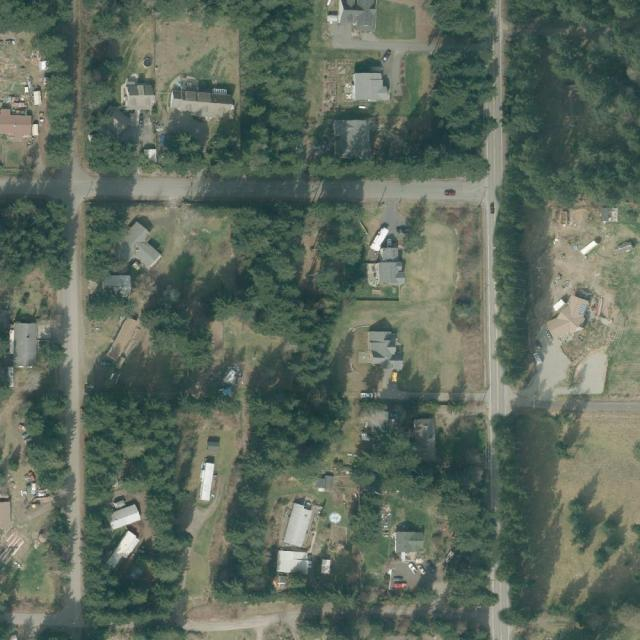greenland: (221, 201, 366, 596), (84, 390, 190, 633), (83, 389, 181, 511)
